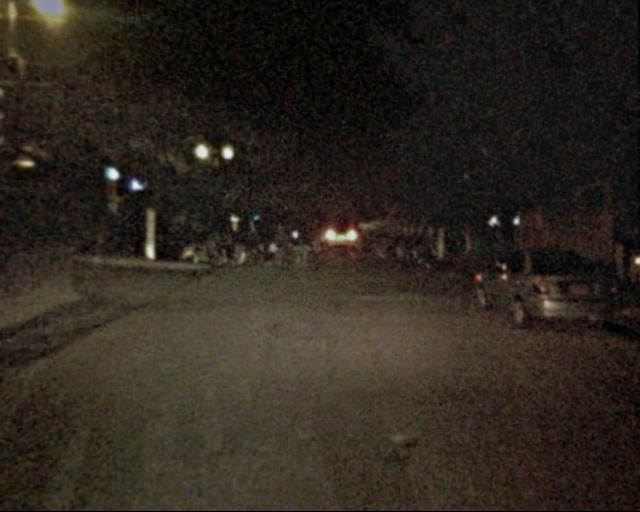person: (221, 223, 243, 277), (294, 224, 314, 273), (273, 222, 294, 268), (253, 221, 274, 264)
